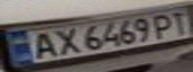4: (100, 19, 124, 48)
6: (78, 21, 106, 52), (118, 17, 139, 45)
9: (130, 15, 157, 43)
A: (24, 29, 60, 61)
P: (148, 11, 178, 38)
T: (166, 9, 193, 34)
X: (48, 25, 81, 56)
